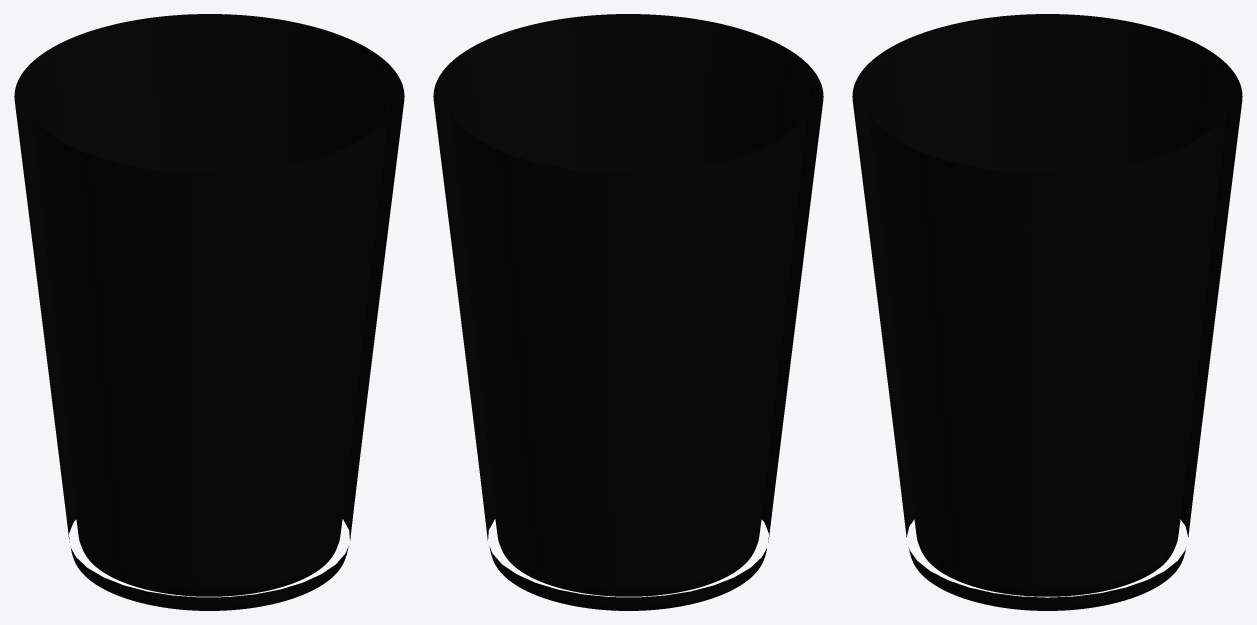
The model's file is trash_bin.obj.
The picture shows the model from 3 angles, left to right: view 1: azimuth 30°, elevation 25°; view 2: azimuth 150°, elevation 25°; view 3: azimuth 270°, elevation 25°; orthographic projection.
Parts seen in each view (by area): view 1: Bin; view 2: Bin; view 3: Bin.
Part boxes in pixels (box(x1,y1,x2,y2)): Bin: box(14, 14, 404, 610); Bin: box(433, 14, 823, 610); Bin: box(852, 14, 1242, 610).
Size of the model in its own units: 1.14 by 1.49 by 1.14.
1 material, 1 textured.
